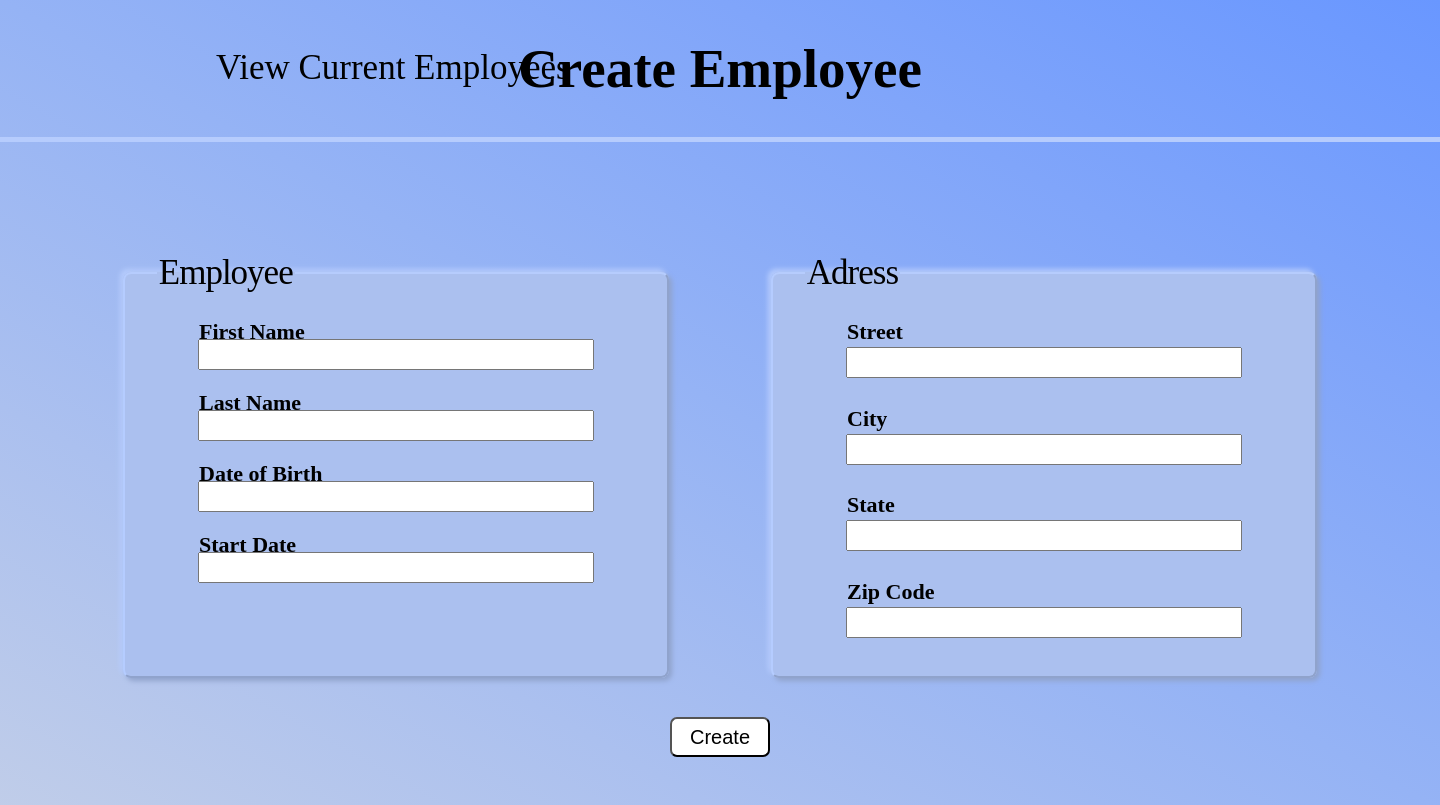
Test: Testing CreateEmployee component › Should show the date choose
Focus the field with id "birthday" at point(396, 496), box [198,481,594,512]
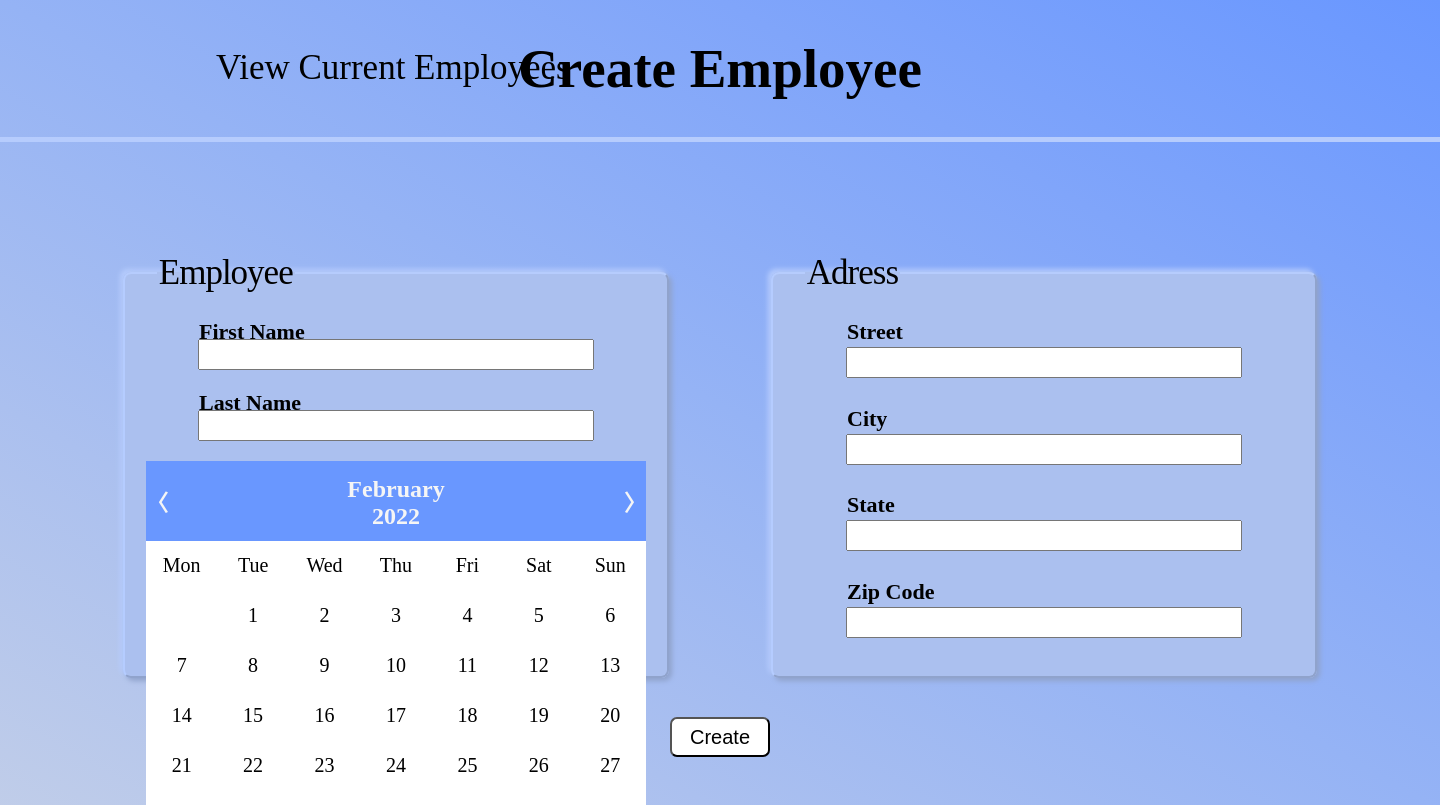
Click the text with class "day-of-month" showing "12" at point(539, 666), box [529,654,549,676]
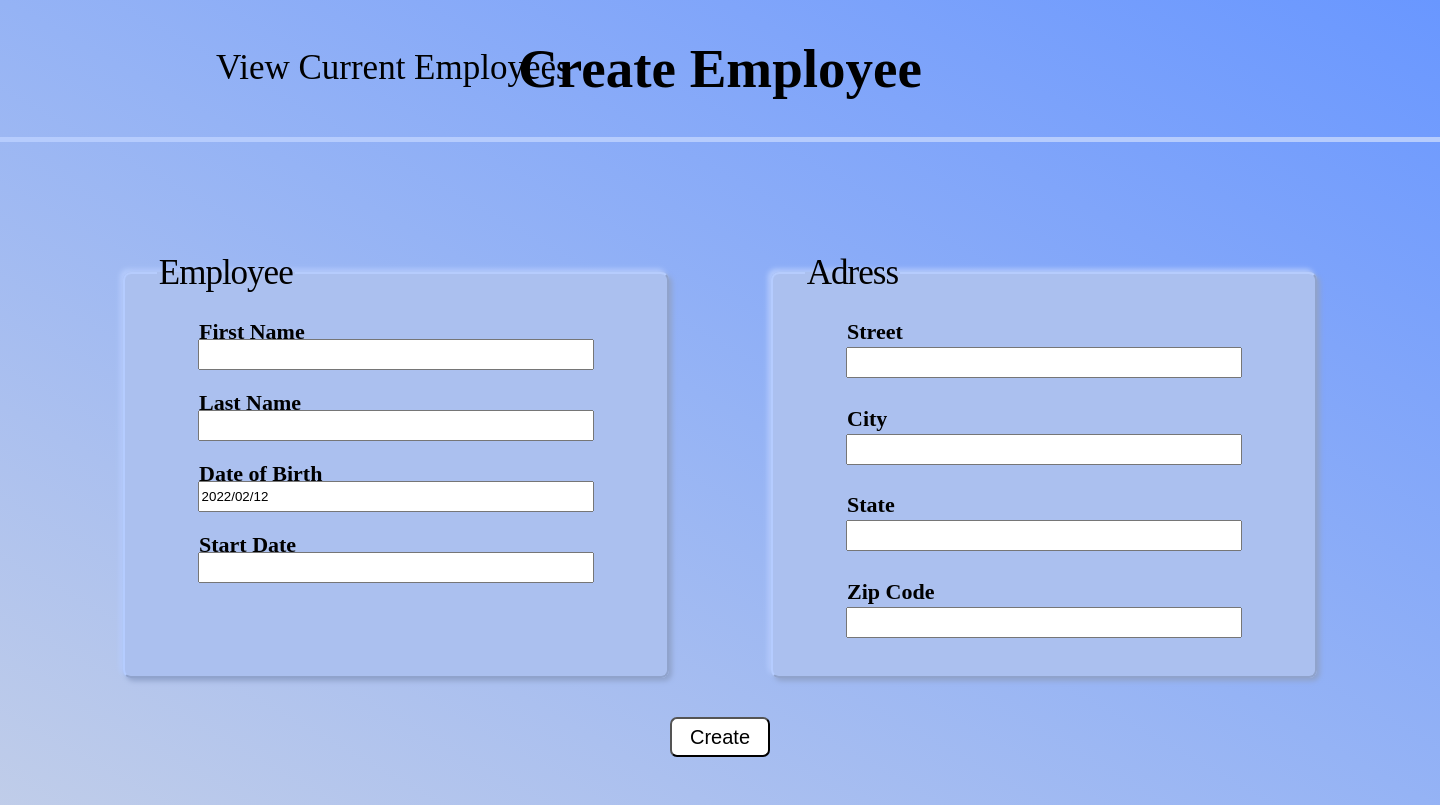
Expected: the field with id "birthday" holds "2022/02/12", [198,481,594,512]
Expected: the field with id "birthday" does not hold "2022/02/02", [198,481,594,512]
